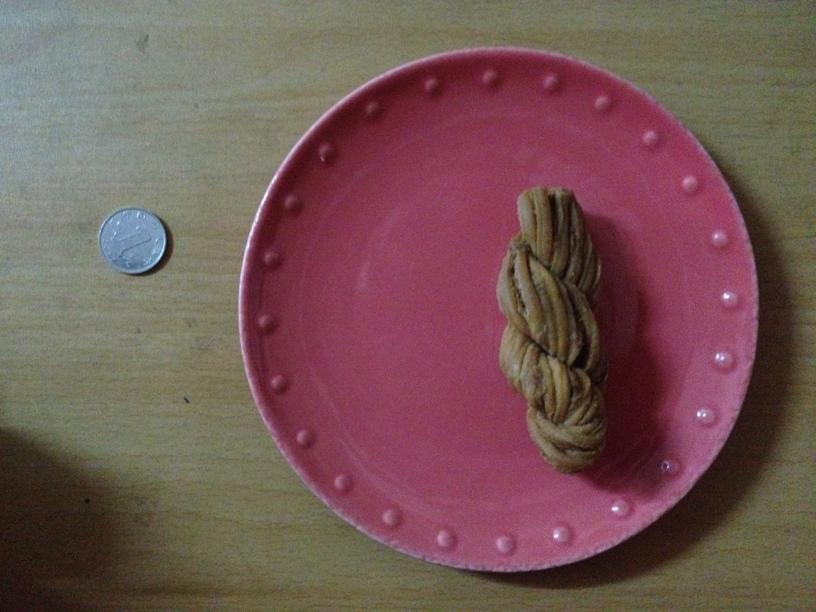coin: (97, 209, 169, 275)
fired_dough_twist: (493, 185, 613, 474)
